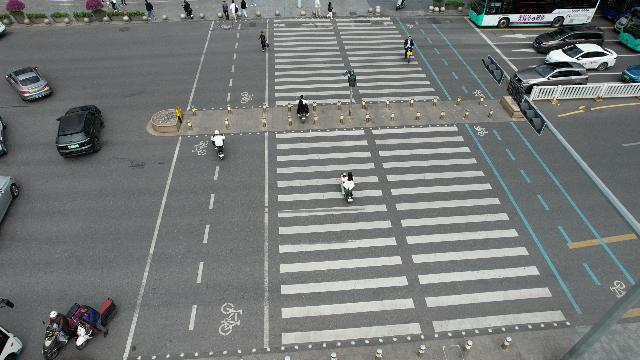non-motor-vehicle: (76, 299, 114, 347), (40, 311, 72, 359), (210, 131, 227, 158), (340, 171, 354, 201), (296, 94, 308, 120), (403, 36, 412, 64), (183, 0, 193, 18), (398, 0, 407, 10)
person: (258, 31, 268, 51), (146, 0, 154, 20), (314, 1, 322, 18), (232, 0, 238, 22), (223, 1, 229, 19), (241, 0, 247, 18), (328, 3, 332, 19)
